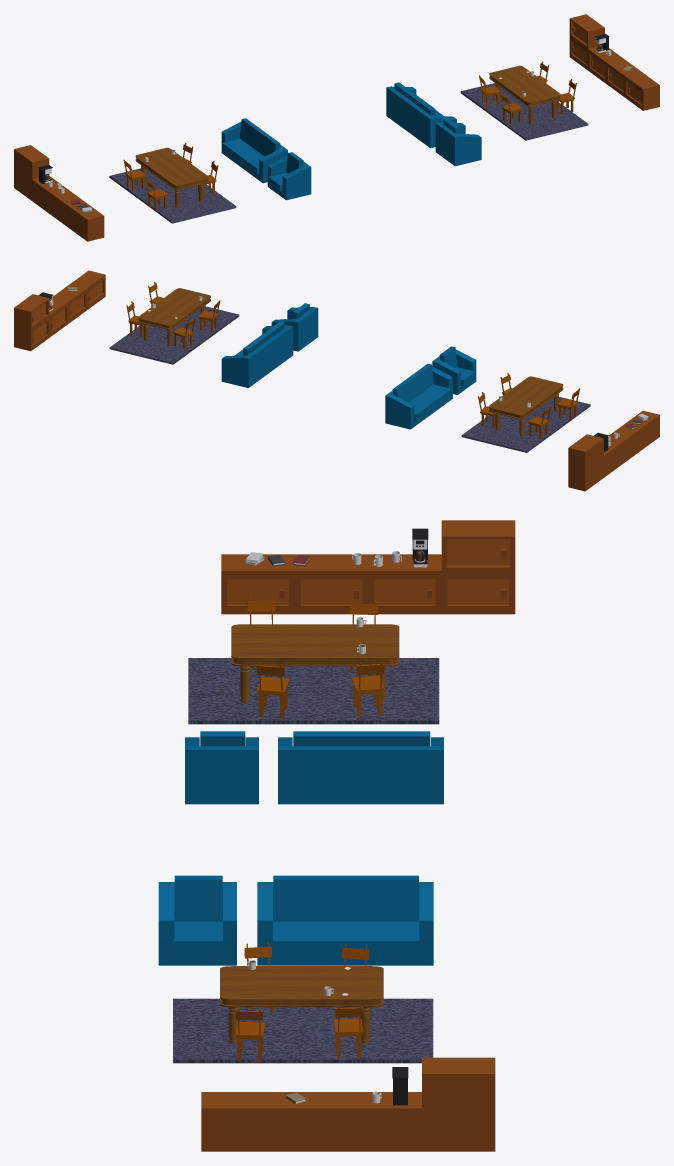
The model's file is SalaProfessores.fbx.
3 views of the same model, one above another, from view 1: azimuth 30°, elevation 25°; view 2: azimuth 150°, elevation 25°; view 3: azimuth 270°, elevation 25° (orthographic). The views are drawn at different scales.
Parts seen in each view (by area): view 1: Sala Professores.002; view 2: Sala Professores.002; view 3: Sala Professores.002.
Boxes of the visible parts, x1=… form: Sala Professores.002: x1=14, y1=14, x2=659, y2=241; Sala Professores.002: x1=14, y1=270, x2=659, y2=491; Sala Professores.002: x1=158, y1=520, x2=515, y2=1151.
Bounding box in the file's own units: 457 × 29.88 × 124.
